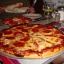pepperoni: (6, 29, 24, 41), (31, 26, 52, 35), (13, 36, 31, 46)
pizza: (1, 26, 64, 55)
